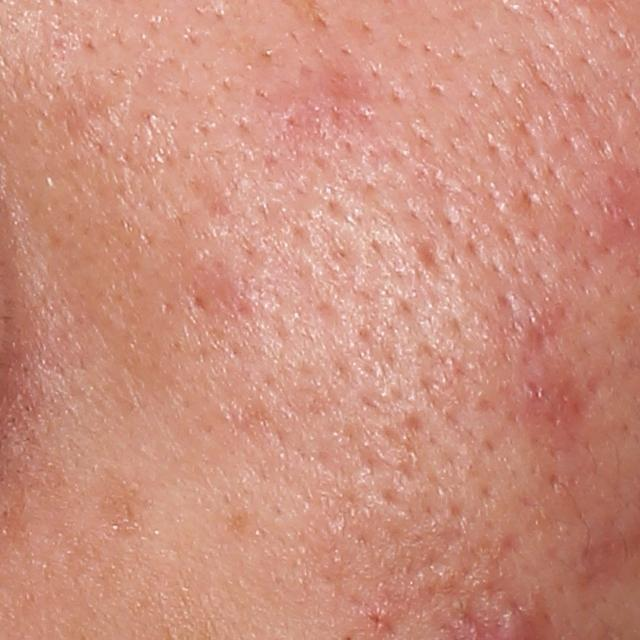atrophic_scar: (412, 237, 451, 283)
